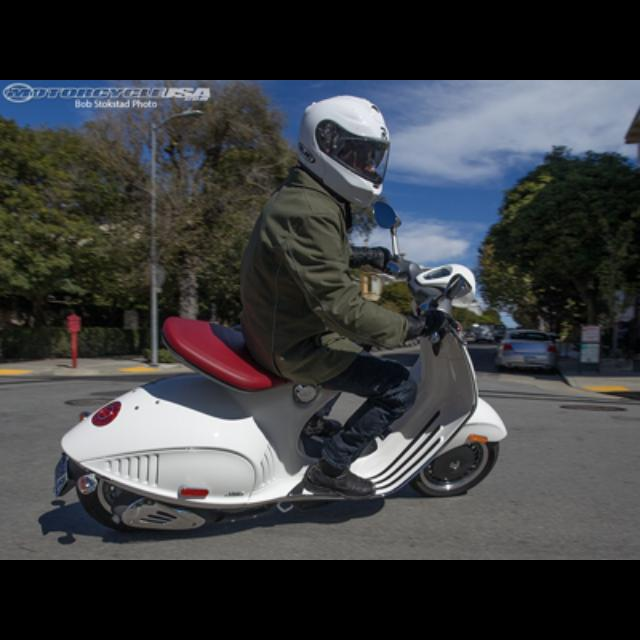With Helmet: (296, 89, 394, 211)
